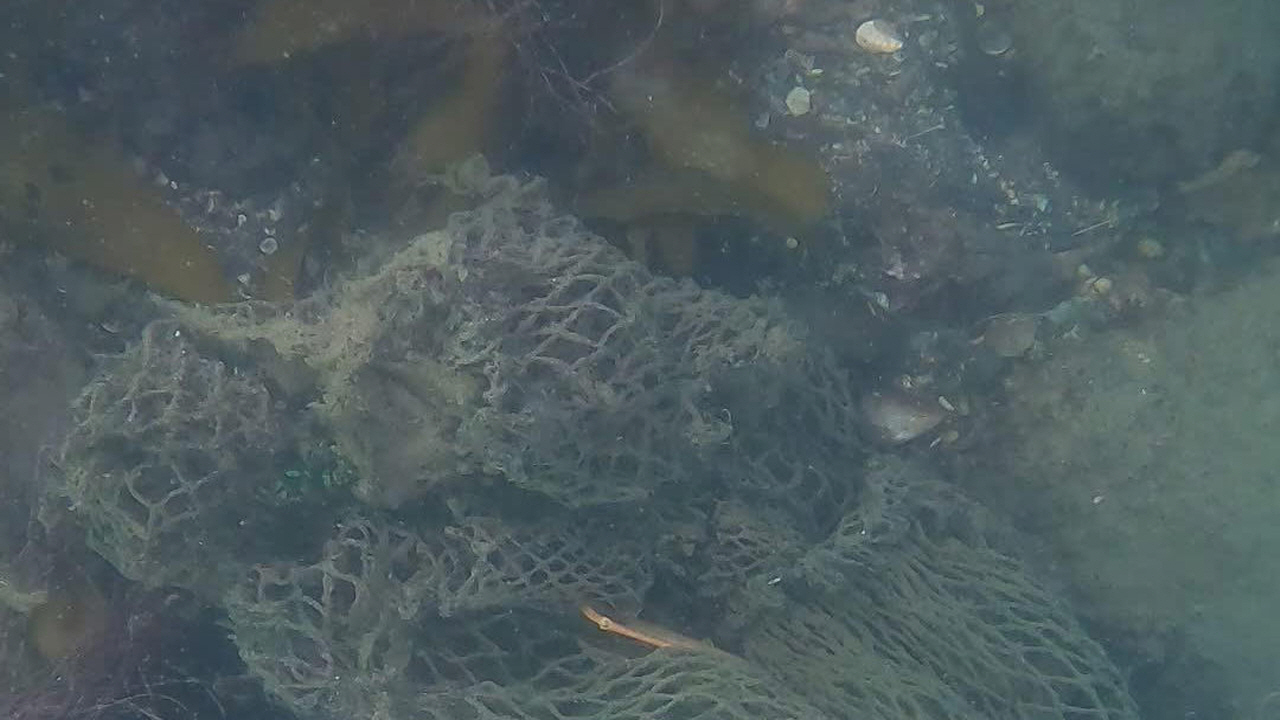fish net: (68, 184, 1140, 720)
